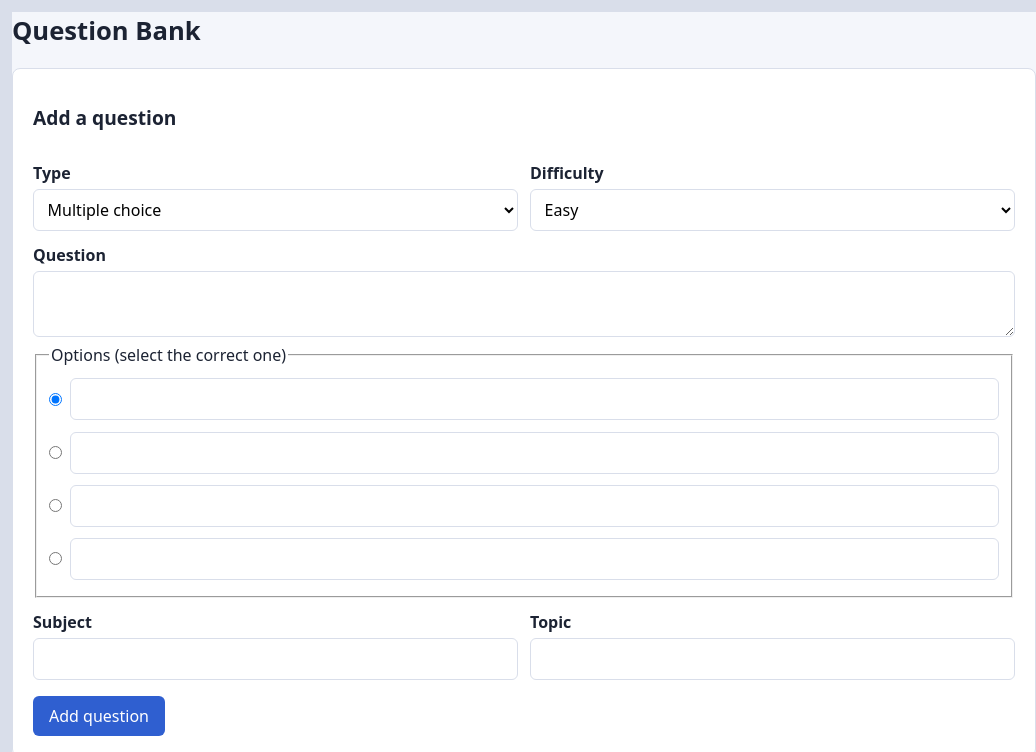
Test: TC-QB-02 MCQ needs four options, True/False two (CSMQP-F-021) › switching to True/False shows exactly two fixed options
This screenshot has width=1036, height=752.
Select "True / False" in the dropdown labelled "Type" at (276, 210), box [33,189,518,231]
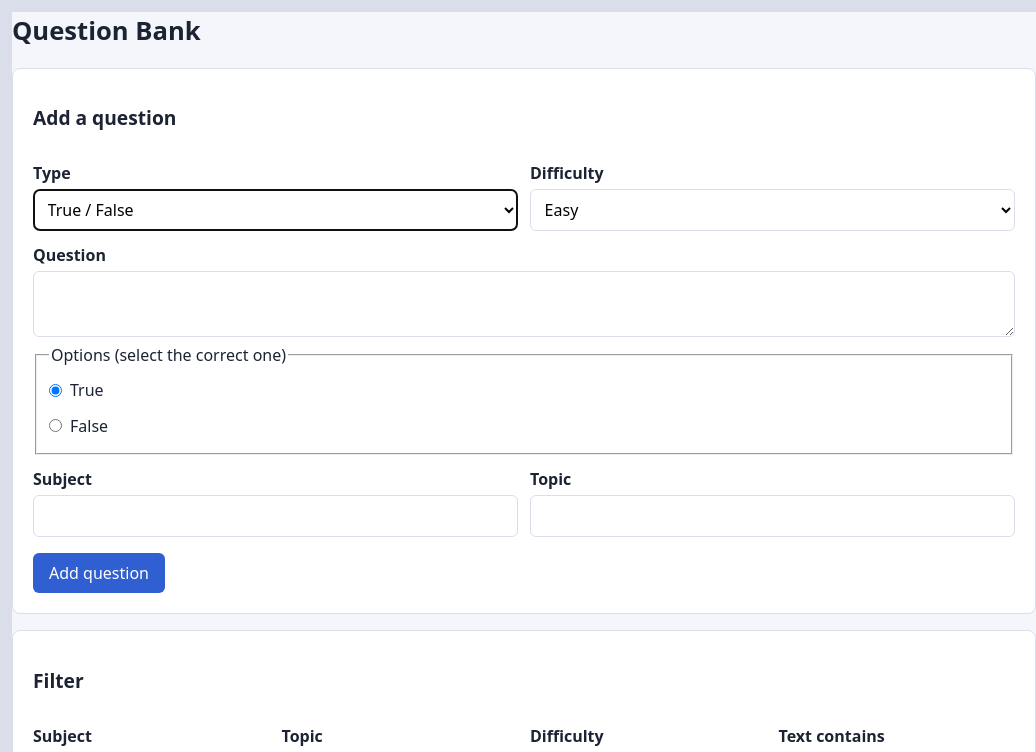
Expected: the number of radio buttons is 2, [49,384,62,397]; [49,419,62,432]
Expected: the text "True" is shown, [70,378,104,402]
Expected: the text "False" is shown, [70,414,108,438]
